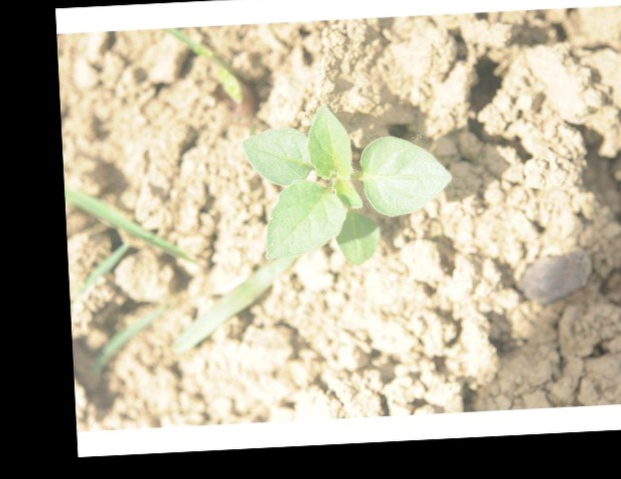nightshade: (241, 103, 453, 264)
